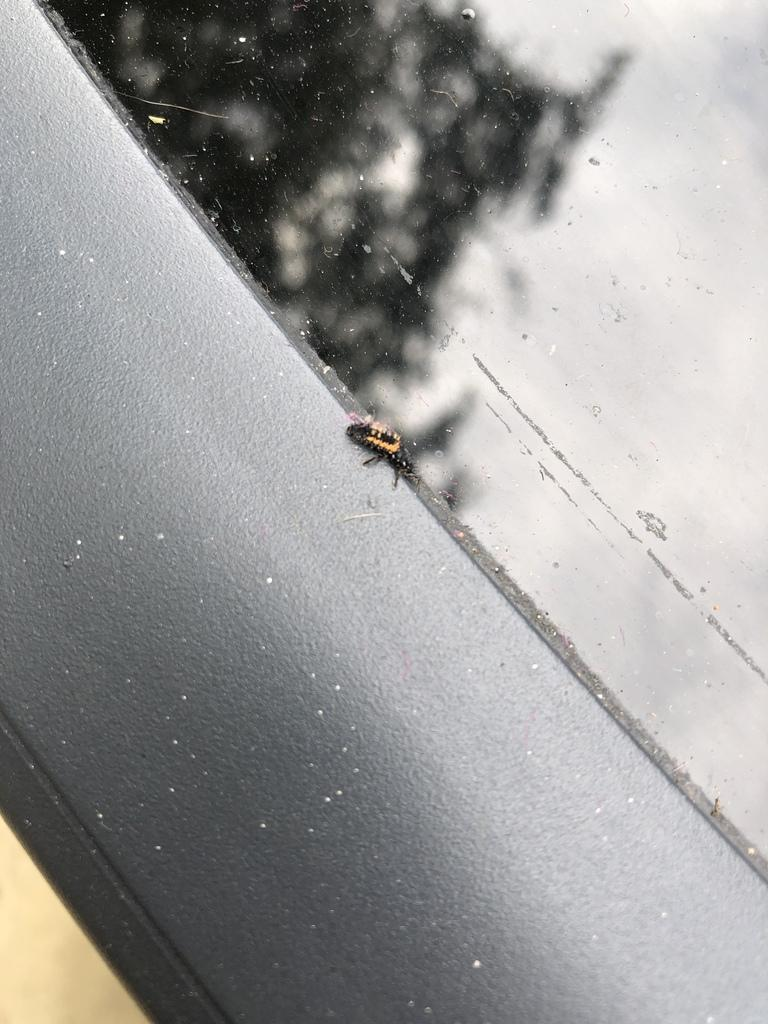ladybug: (346, 418, 422, 490)
